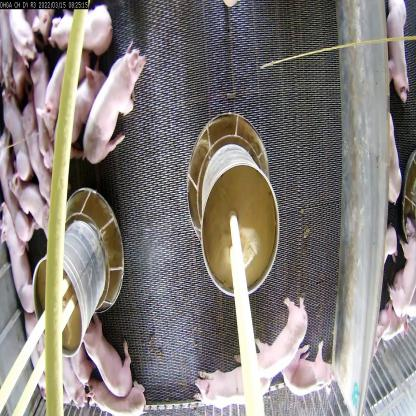Pig: (44, 64, 107, 184), (86, 52, 148, 164), (255, 291, 306, 394), (82, 304, 137, 399), (20, 93, 55, 231), (0, 202, 40, 322), (197, 350, 264, 415), (273, 336, 337, 400), (44, 5, 112, 59), (38, 53, 74, 143), (87, 378, 148, 415)
